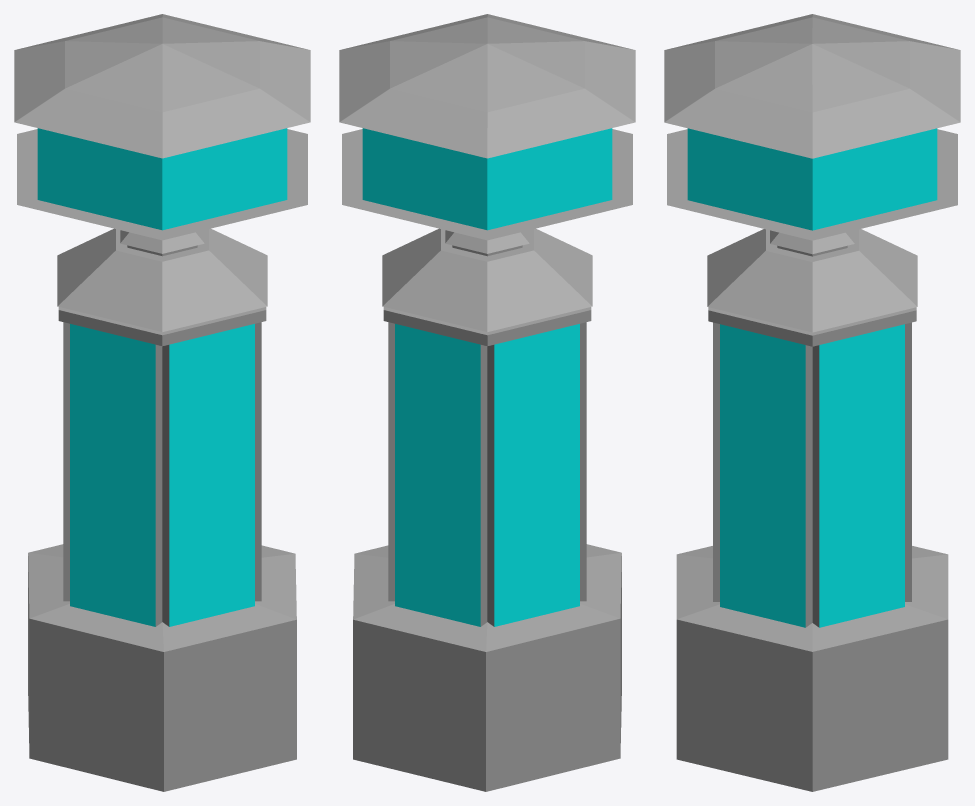
The model's file is Tower2.fbx.
3 views of the same model, side by side, from view 1: azimuth 30°, elevation 25°; view 2: azimuth 150°, elevation 25°; view 3: azimuth 270°, elevation 25° (orthographic).
Visible parts, largest first — view 1: Tower2; view 2: Tower2; view 3: Tower2.
Boxes of the visible parts, left/top/right/bottom form: Tower2: left=14, top=14, right=310, bottom=791; Tower2: left=339, top=14, right=635, bottom=791; Tower2: left=664, top=14, right=960, bottom=791.
Bounding box in the file's own units: 146 × 321 × 126.
